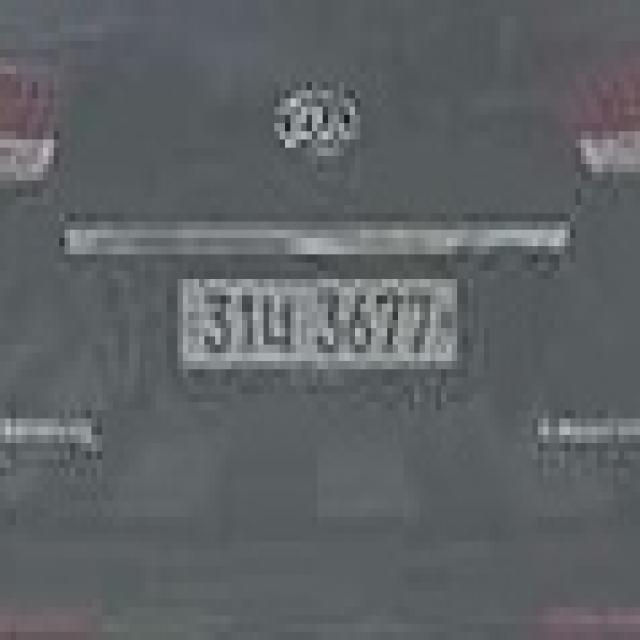1: (237, 287, 258, 361)
3: (312, 287, 350, 361), (199, 287, 231, 361)
7: (403, 287, 436, 361), (376, 287, 404, 361)
license_plate: (172, 271, 468, 377)
neo: (258, 287, 296, 361)
